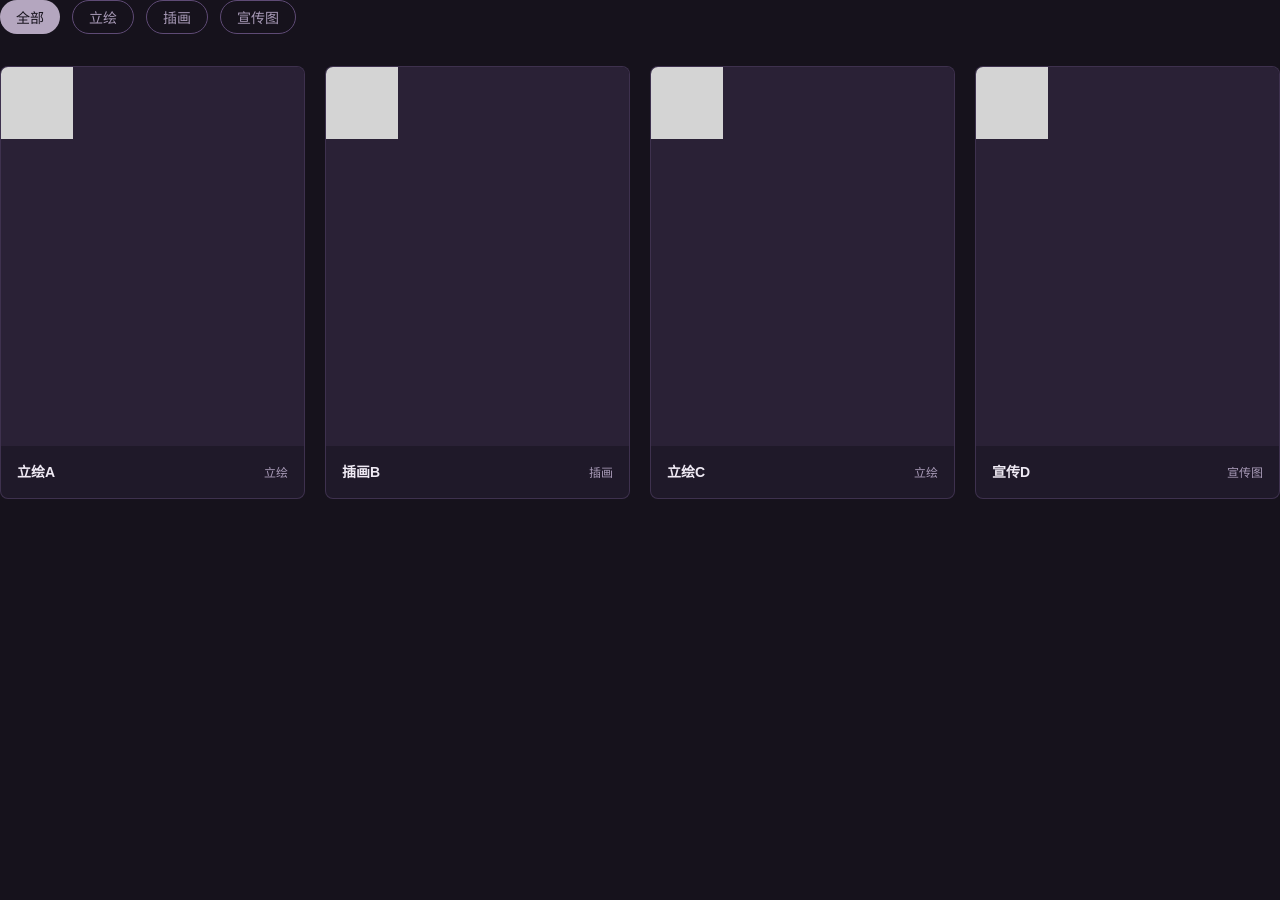
Test: AssetGallery 全幅化 › Lightbox 打开关闭回归
Click the text "立绘A" at [36, 472], box [17,462,55,482]
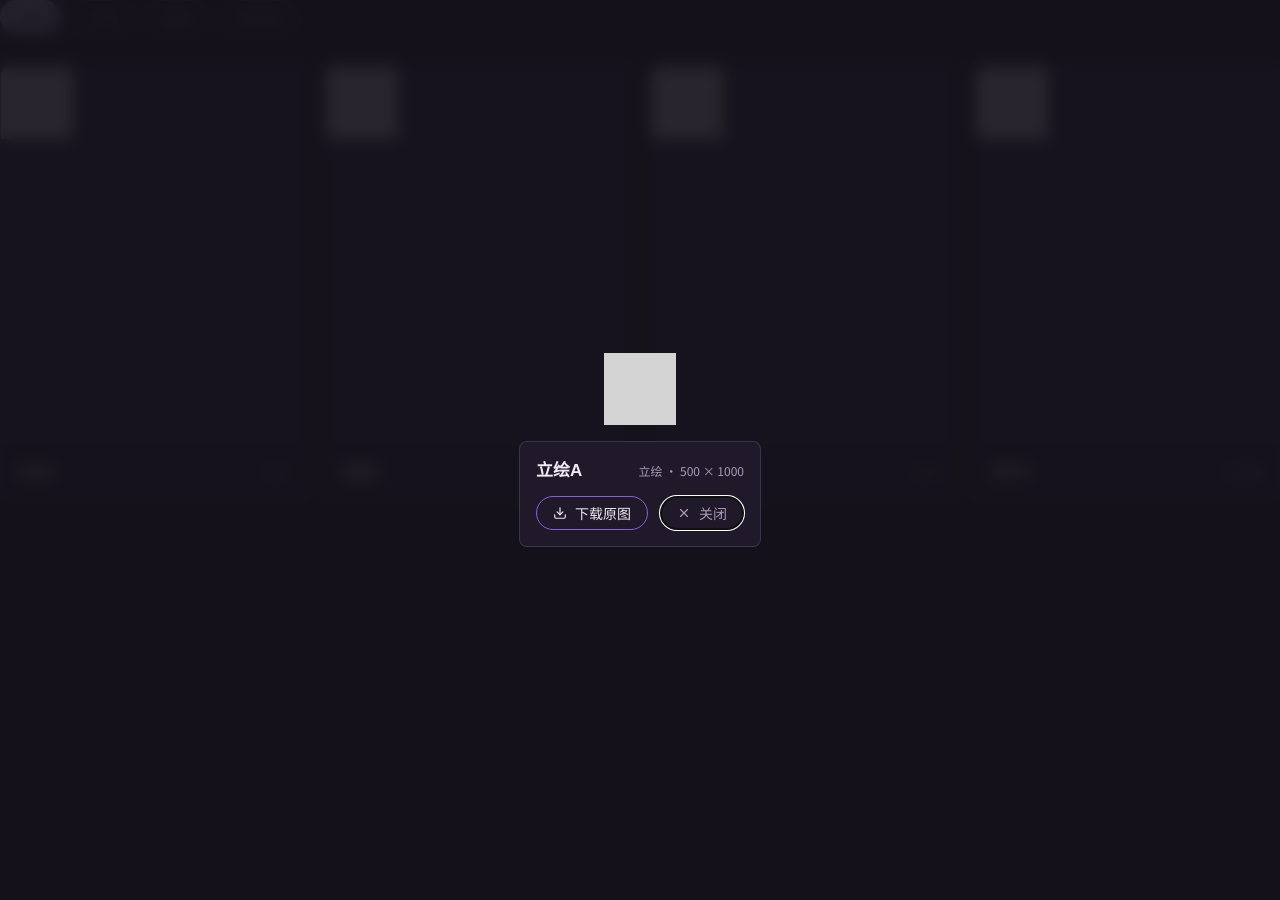
Result: the dialog "立绘A" is shown
Click the button "关闭" at [702, 513], box [660,496,744,530]
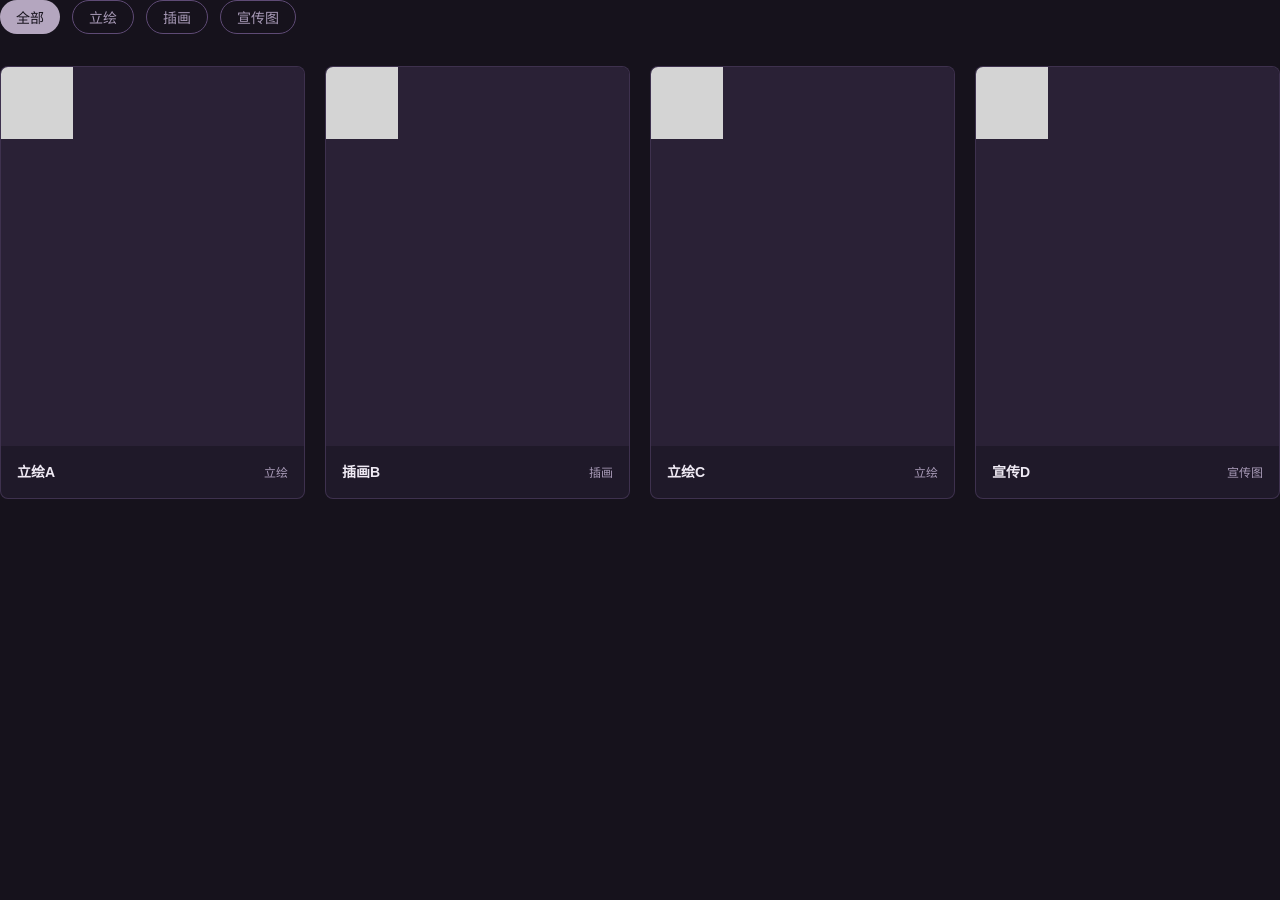
Result: the dialog is gone
